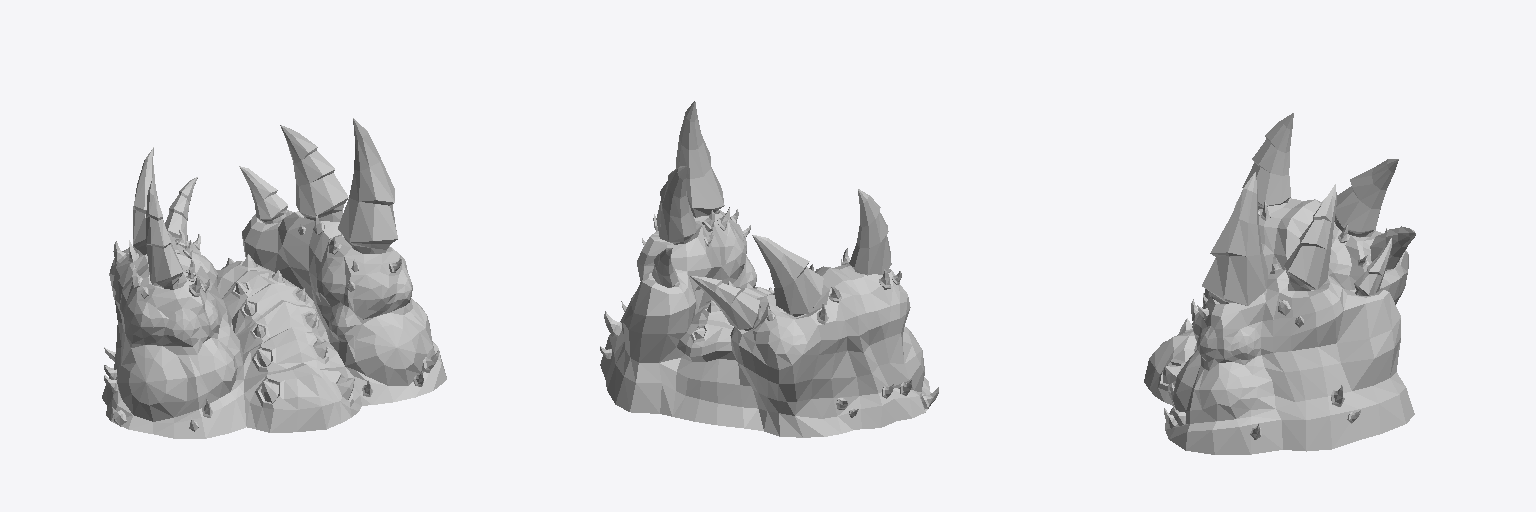
The model's file is zerg_gas.obj.
3 renders of one model, left to right at view 1: azimuth 30°, elevation 25°; view 2: azimuth 150°, elevation 25°; view 3: azimuth 270°, elevation 25°, orthographic.
Visible parts, largest first — view 1: Geoset_0; view 2: Geoset_0; view 3: Geoset_0.
Part boxes in pixels (bbox=[...]): Geoset_0: bbox=[102, 118, 446, 438]; Geoset_0: bbox=[600, 101, 938, 437]; Geoset_0: bbox=[1144, 113, 1415, 454].
Size of the model in its own units: 4.84 by 3.72 by 3.63.